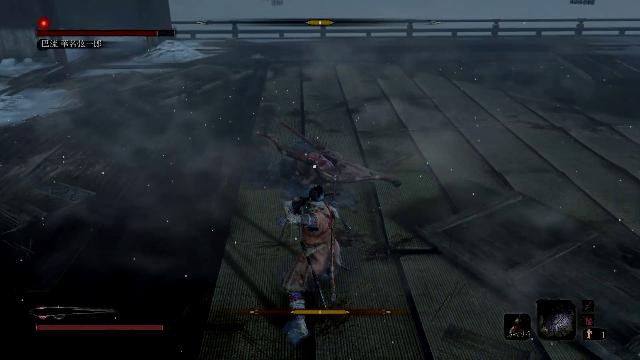sk: (276, 181, 344, 346)
